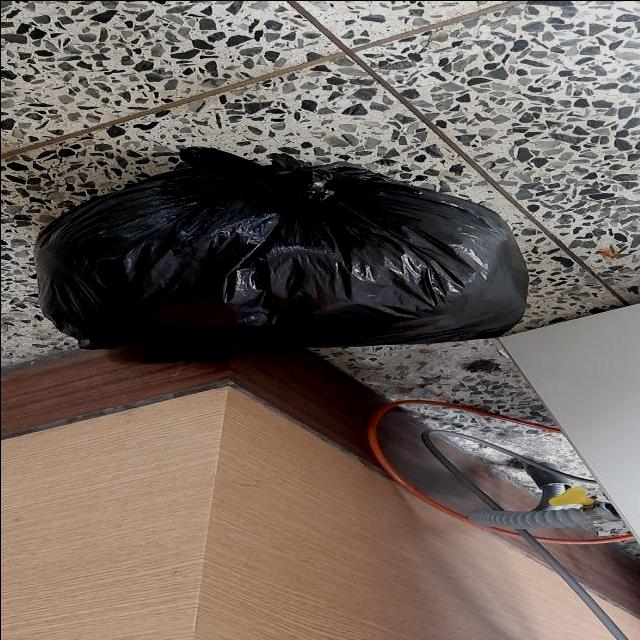black_bag: (34, 144, 528, 356)
